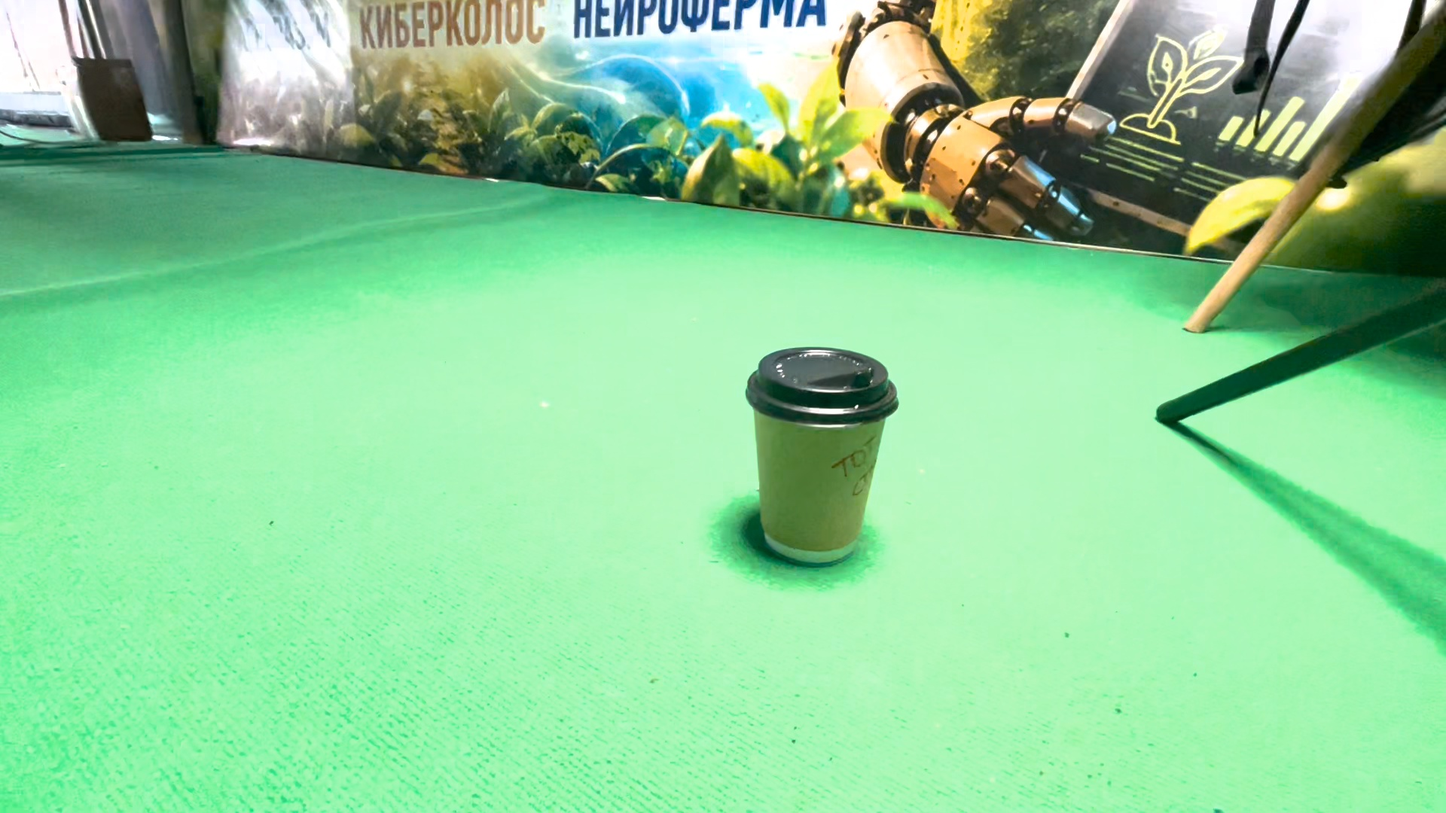cup: (697, 441, 821, 619)
